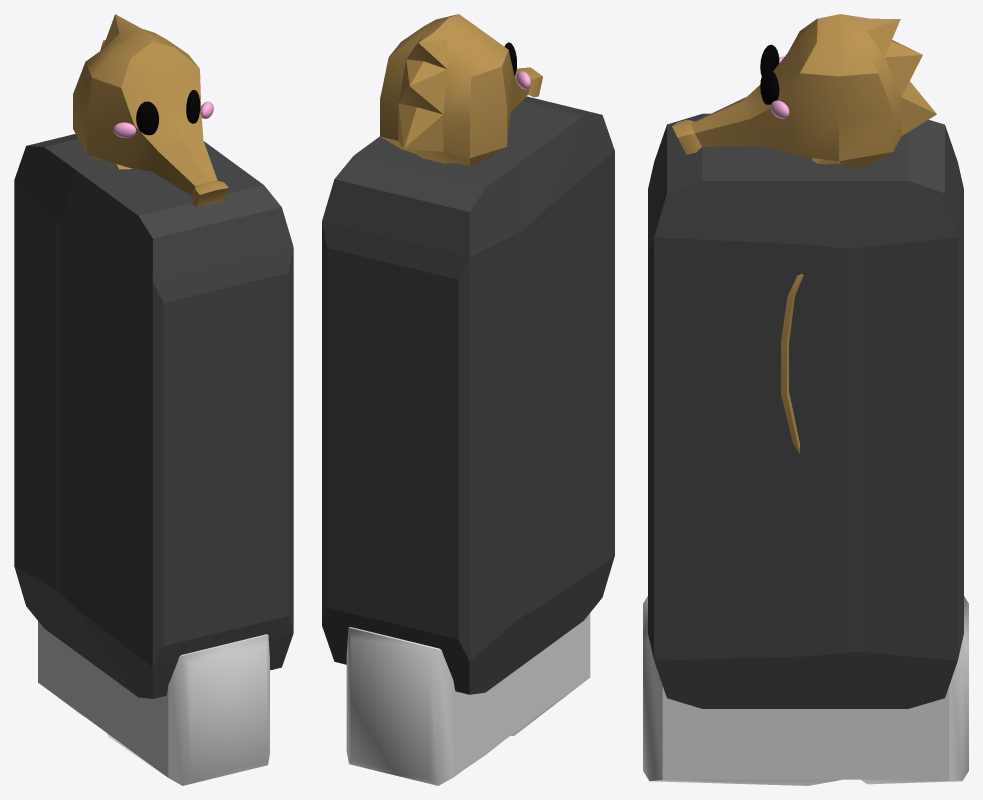
File: seahorse.fbx
3 views of the same model, side by side, from view 1: azimuth 30°, elevation 25°; view 2: azimuth 150°, elevation 25°; view 3: azimuth 270°, elevation 25° (orthographic). The views are drawn at different scales.
Visible parts, largest first — view 1: Cube.002, Cube, Cube.001, Sphere, Sphere.001; view 2: Cube.002, Cube, Cube.001; view 3: Cube.002, Cube, Cube.001, Sphere.
Boxes of the visible parts, bbox=[...] form: Cube.002: bbox=[14, 134, 293, 698]; Cube: bbox=[38, 621, 269, 785]; Cube.001: bbox=[73, 14, 228, 207]; Sphere: bbox=[136, 89, 200, 135]; Sphere.001: bbox=[113, 101, 213, 137]; Cube.002: bbox=[322, 96, 614, 694]; Cube: bbox=[346, 613, 590, 785]; Cube.001: bbox=[380, 14, 542, 165]; Cube.002: bbox=[648, 113, 963, 708]; Cube: bbox=[643, 596, 968, 785]; Cube.001: bbox=[672, 14, 936, 453]; Sphere: bbox=[760, 44, 779, 104].
Size of the model in its own units: 337 by 1513 by 590.
